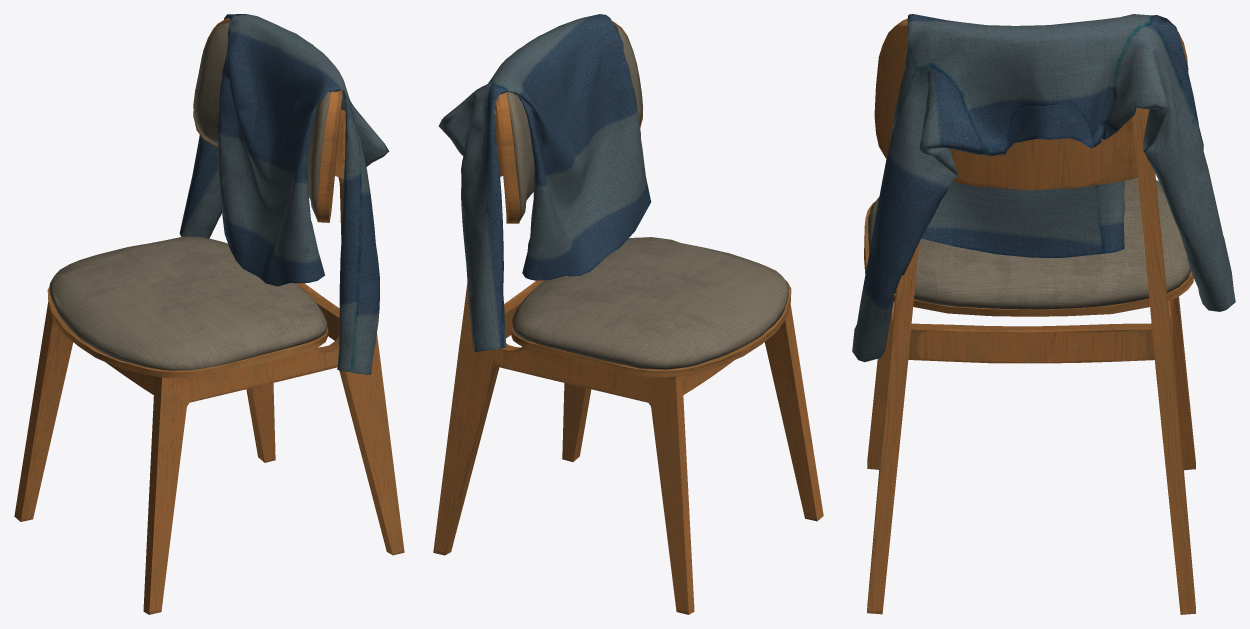
File: SM_Chair_C2.fbx
3 renders of one model, left to right at view 1: azimuth 30°, elevation 25°; view 2: azimuth 150°, elevation 25°; view 3: azimuth 270°, elevation 25°, orthographic. The views are drawn at different scales.
Visible parts, largest first — view 1: SM_Chair_C2; view 2: SM_Chair_C2; view 3: SM_Chair_C2.
Part boxes in pixels (bbox=[...]): SM_Chair_C2: bbox=[14, 14, 404, 614]; SM_Chair_C2: bbox=[433, 14, 823, 614]; SM_Chair_C2: bbox=[852, 14, 1235, 614].
Size of the model in its own units: 54.16 by 55.29 by 90.78.
2 materials, 2 textured.
